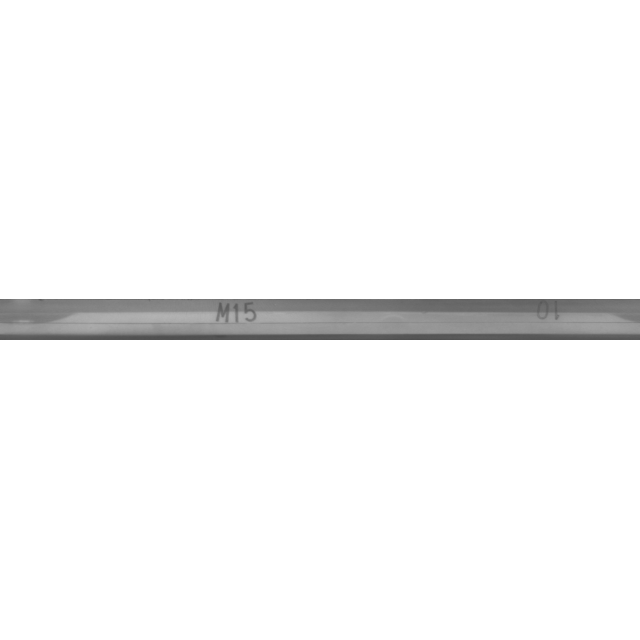mohao: (134, 270, 334, 370)
xuehao: (454, 270, 640, 370)
